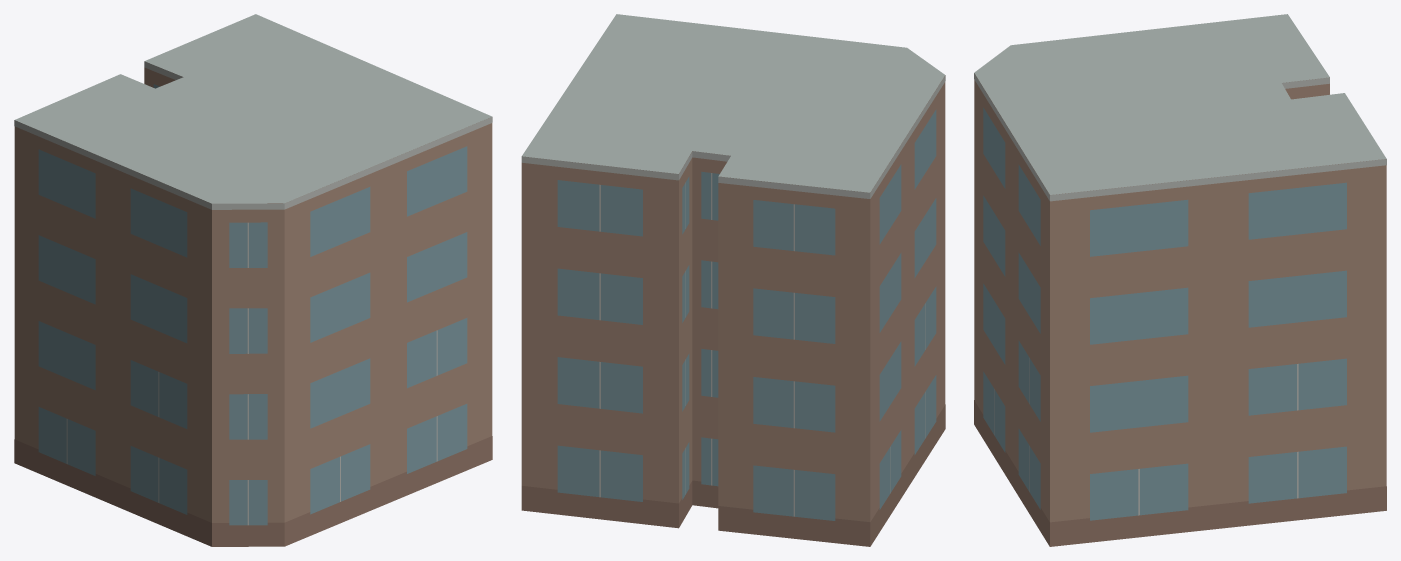
The model's file is survey-upis-33031062.glb.
The picture shows the model from 3 angles, left to right: view 1: azimuth 30°, elevation 25°; view 2: azimuth 150°, elevation 25°; view 3: azimuth 270°, elevation 25°; orthographic projection. The views are drawn at different scales.
Parts seen in each view (by area): view 1: survey-upis-33031062.tmp; view 2: survey-upis-33031062.tmp; view 3: survey-upis-33031062.tmp.
Boxes of the visible parts, x1,y1,x2,y2 form: survey-upis-33031062.tmp: [14, 14, 492, 546]; survey-upis-33031062.tmp: [521, 14, 945, 546]; survey-upis-33031062.tmp: [974, 14, 1386, 546].
Bounding box in the file's own units: 14.91 × 13.5 × 14.36.
